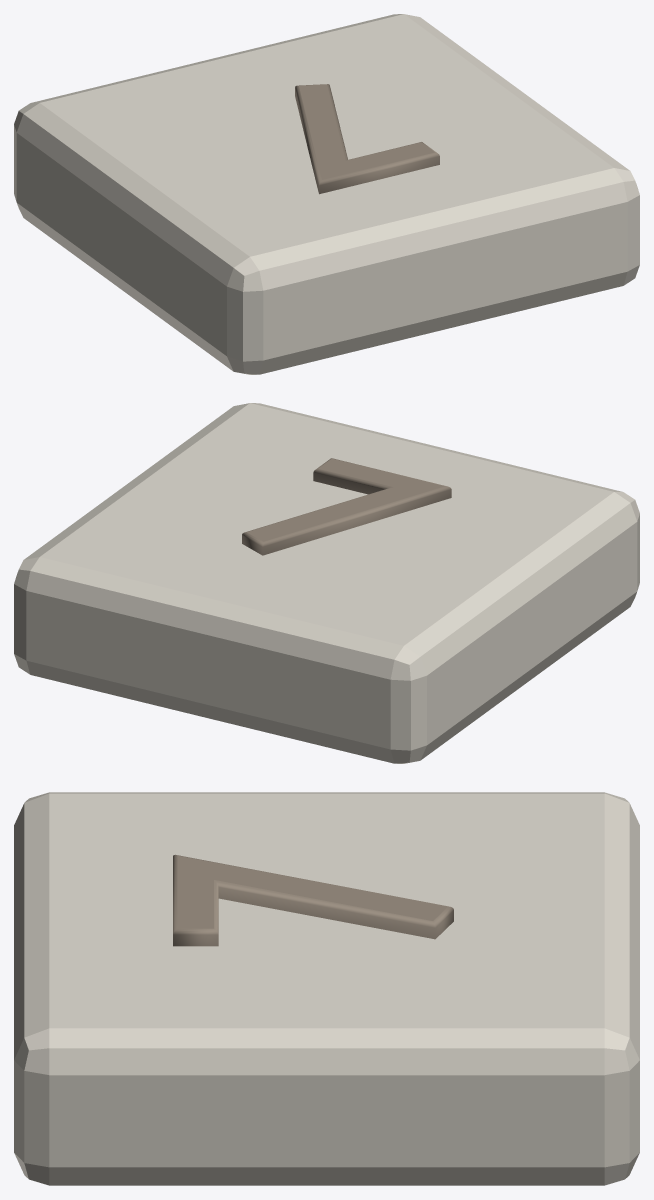
Rendered from Tile_7.fbx.
The picture shows the model from 3 angles, top to bottom: view 1: azimuth 30°, elevation 25°; view 2: azimuth 150°, elevation 25°; view 3: azimuth 270°, elevation 25°; orthographic projection. The views are drawn at different scales.
Visible parts, largest first — view 1: Tile_7; view 2: Tile_7; view 3: Tile_7.
Part boxes in pixels (<box>): Tile_7: <box>14,14,639,374</box>; Tile_7: <box>14,403,639,763</box>; Tile_7: <box>14,792,639,1185</box>.
Bounding box in the file's own units: 80 × 24.2 × 80.
